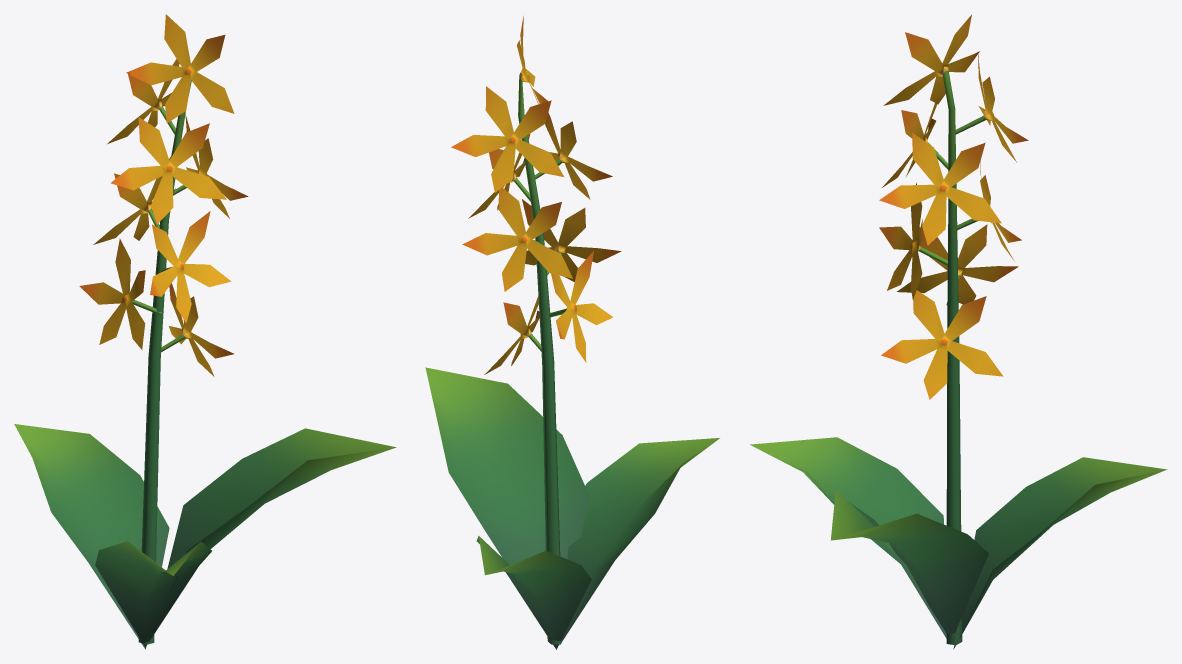
Rendered from Flower_022.fbx.
3 renders of one model, left to right at view 1: azimuth 30°, elevation 25°; view 2: azimuth 150°, elevation 25°; view 3: azimuth 270°, elevation 25°, orthographic. The views are drawn at different scales.
Visible parts, largest first — view 1: Flower.022; view 2: Flower.022; view 3: Flower.022.
Boxes of the visible parts, x1,y1,x2,y2 form: Flower.022: [14, 14, 396, 649]; Flower.022: [425, 16, 719, 649]; Flower.022: [750, 14, 1167, 649].
Bounding box in the file's own units: 1.62 × 3.61 × 2.1.
